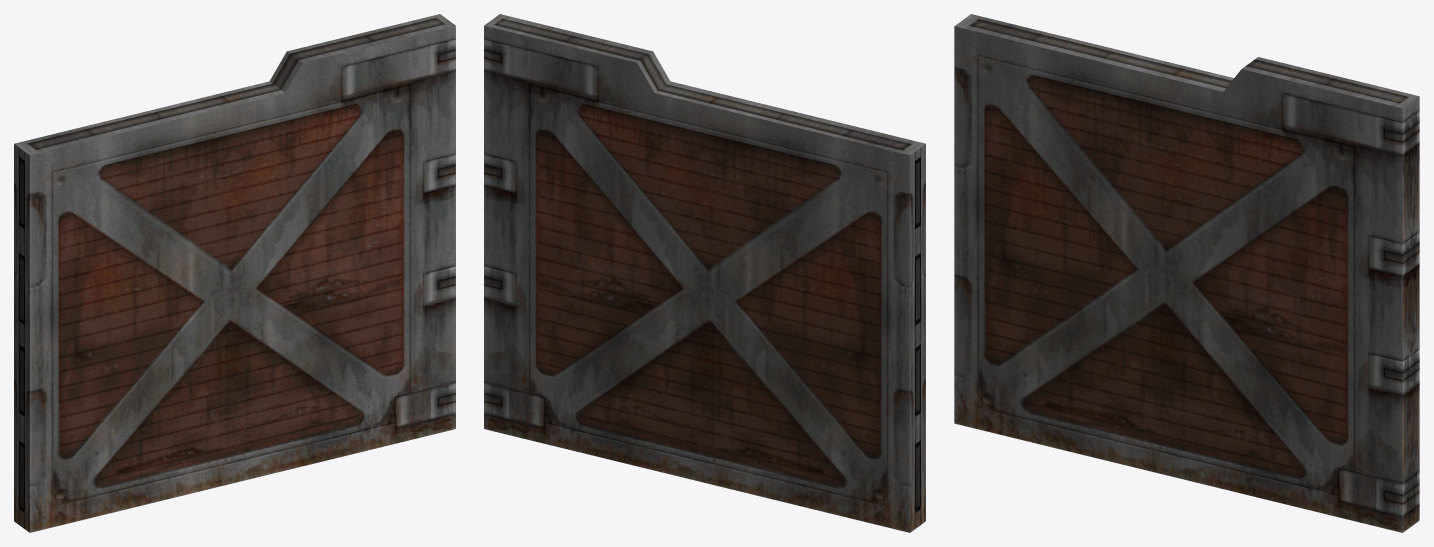
Rendered from eastgate.obj.
3 renders of one model, left to right at view 1: azimuth 30°, elevation 25°; view 2: azimuth 150°, elevation 25°; view 3: azimuth 330°, elevation 25°, orthographic. The views are drawn at different scales.
Parts seen in each view (by area): view 1: Seastgate2-00.Seastgate2-00_Seastgate2-00; view 2: Seastgate2-00.Seastgate2-00_Seastgate2-00; view 3: Seastgate2-00.Seastgate2-00_Seastgate2-00.
Boxes of the visible parts, bbox=[...] form: Seastgate2-00.Seastgate2-00_Seastgate2-00: bbox=[14, 14, 455, 532]; Seastgate2-00.Seastgate2-00_Seastgate2-00: bbox=[484, 14, 925, 532]; Seastgate2-00.Seastgate2-00_Seastgate2-00: bbox=[954, 14, 1419, 532].
Bounding box in the file's own units: 2 × 1.81 × 0.1292.
